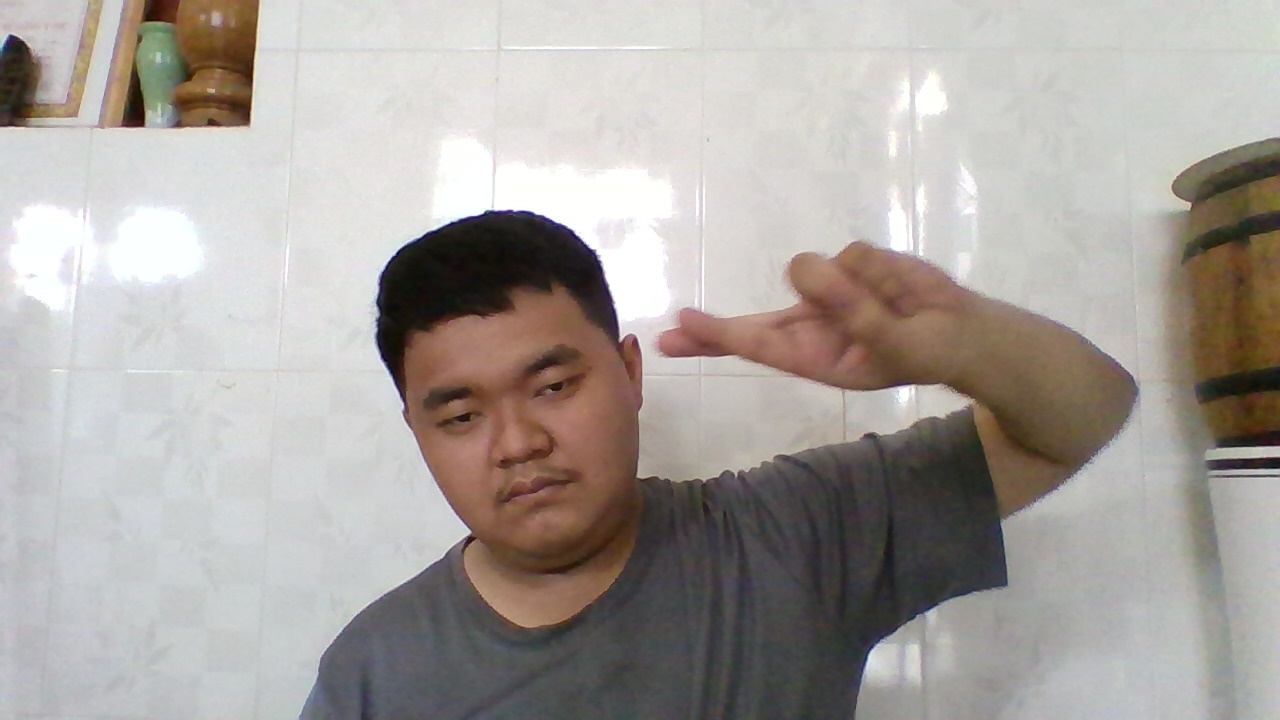R: (660, 236, 981, 373)
